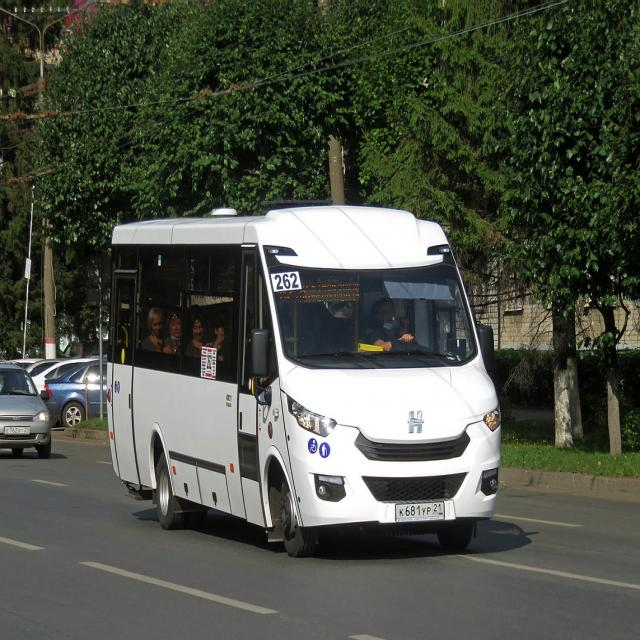number-of-bus: (270, 271, 303, 291)
